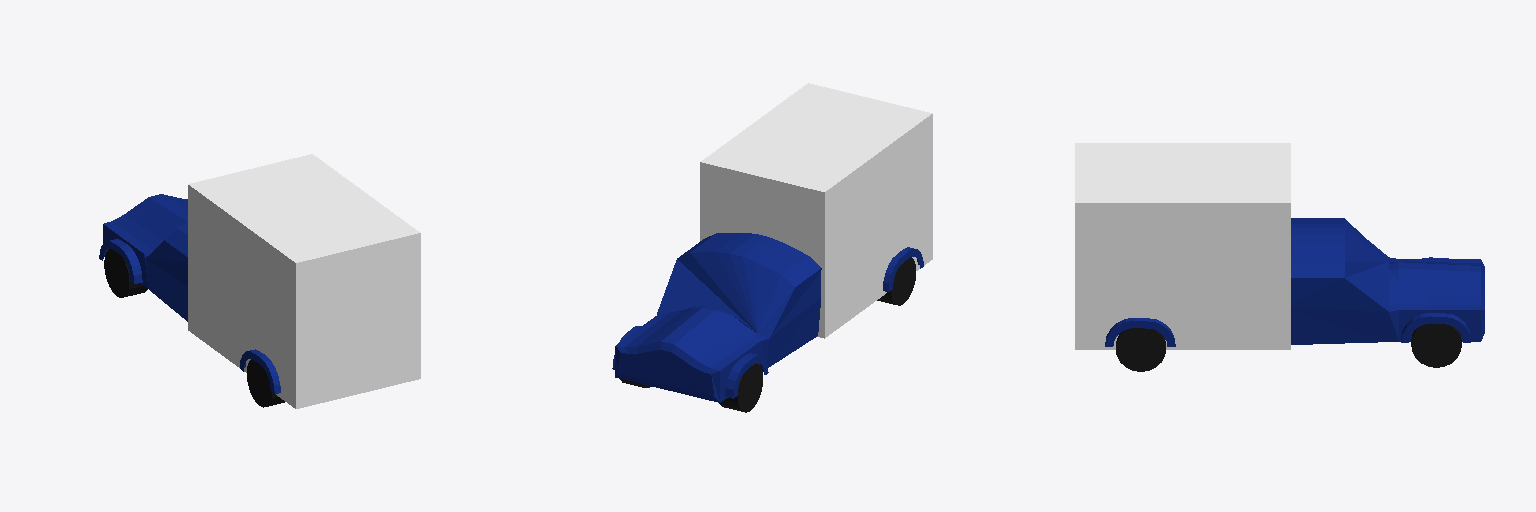
The model's file is Trruck.obj.
The picture shows the model from 3 angles: view 1: azimuth 30°, elevation 25°; view 2: azimuth 150°, elevation 25°; view 3: azimuth 270°, elevation 25°; orthographic projection.
Visible parts, largest first — view 1: pCube2, pCube1, pCylinder2, pCylinder3, pCylinder1, pasted__pCylinder1 group1; view 2: pCube2, pCube1, pCylinder2, pCylinder3, pCylinder1, pasted__pCylinder1 group1; view 3: pCube2, pCube1, pCylinder5, pCylinder4, pasted__pCylinder1 group, group1 pasted__pasted__pCylinder1 pasted__group.
Part boxes in pixels (x1,y1,x2,y2): pCube2: (188, 154, 420, 408); pCube1: (103, 194, 187, 321); pCylinder2: (104, 249, 147, 297); pCylinder3: (247, 359, 284, 407); pCylinder1: (99, 239, 142, 283); pasted__pCylinder1 group1: (240, 349, 280, 393); pCube2: (700, 83, 932, 338); pCube1: (615, 233, 821, 402); pCylinder2: (719, 363, 762, 412); pCylinder3: (877, 257, 915, 305); pCylinder1: (725, 353, 768, 398); pasted__pCylinder1 group1: (883, 247, 923, 291); pCube2: (1075, 143, 1290, 349); pCube1: (1291, 218, 1484, 344); pCylinder5: (1411, 324, 1461, 367); pCylinder4: (1116, 328, 1165, 371); pasted__pCylinder1 group: (1401, 313, 1470, 342); group1 pasted__pasted__pCylinder1 pasted__group: (1105, 318, 1175, 346).
Bounding box in the file's own units: 8.45 × 9.74 × 21.82.